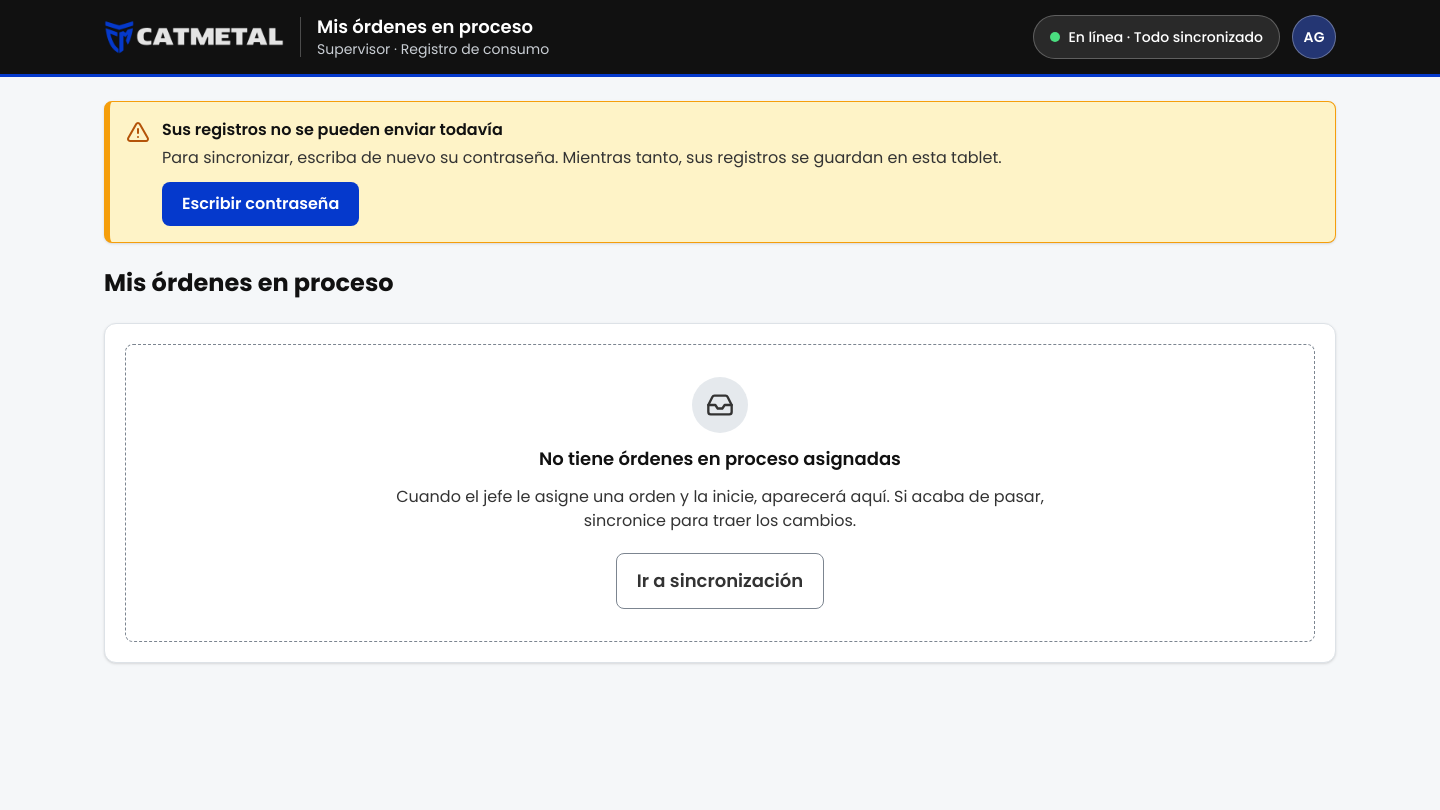
Scenario: avisos permanentes › sesión del servidor perdida: pide la contraseña para sincronizar
The image size is (1440, 810).
Expected: the heading "Mis órdenes en proceso" is shown, [104, 266, 394, 299]
Expected: the text "Sus registros no se pueden enviar todavía" is shown, [161, 117, 503, 141]
Click the button "Escribir contraseña". click: (261, 204)
box: [162, 182, 359, 226]
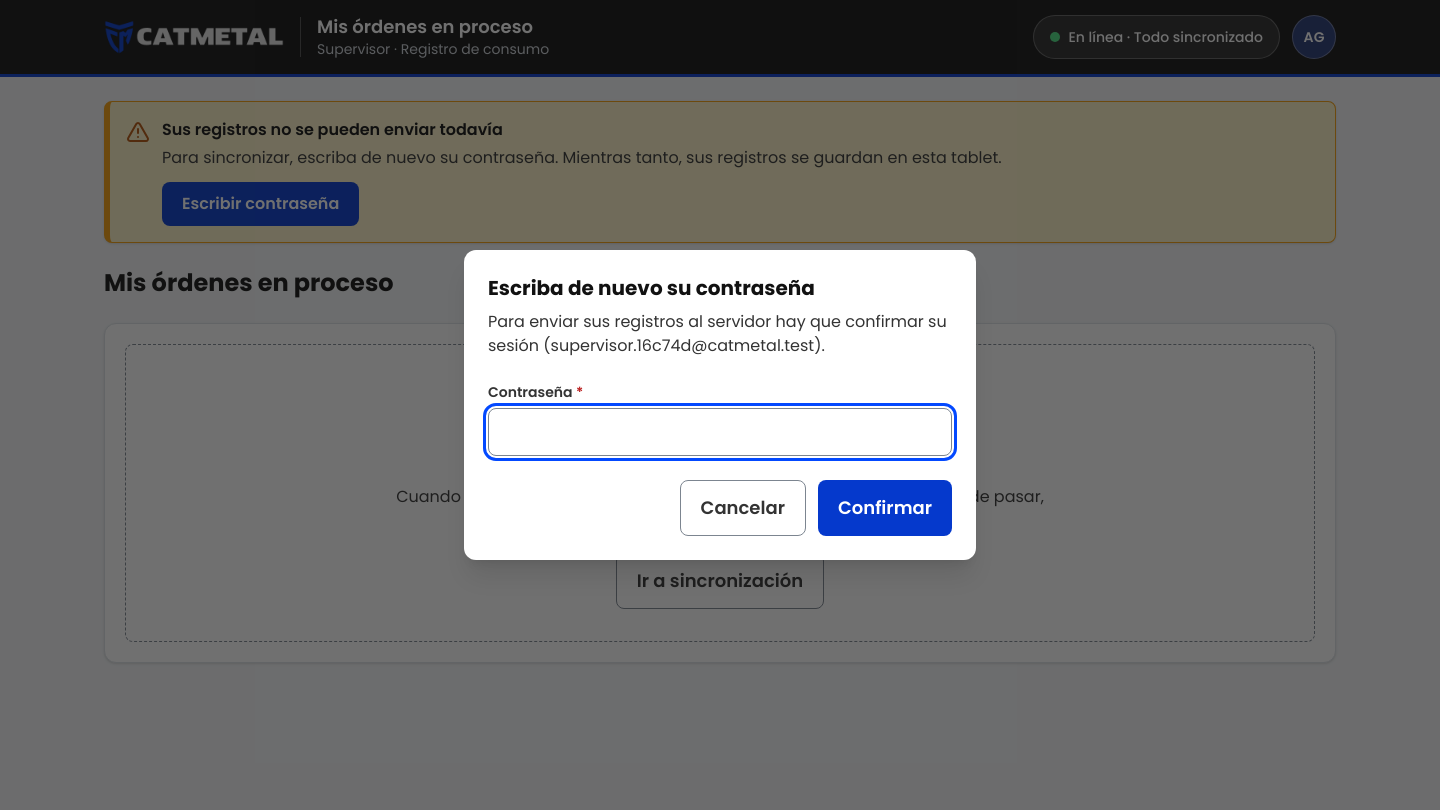
Click the button "Confirmar". click: (885, 508)
box: [818, 480, 952, 536]
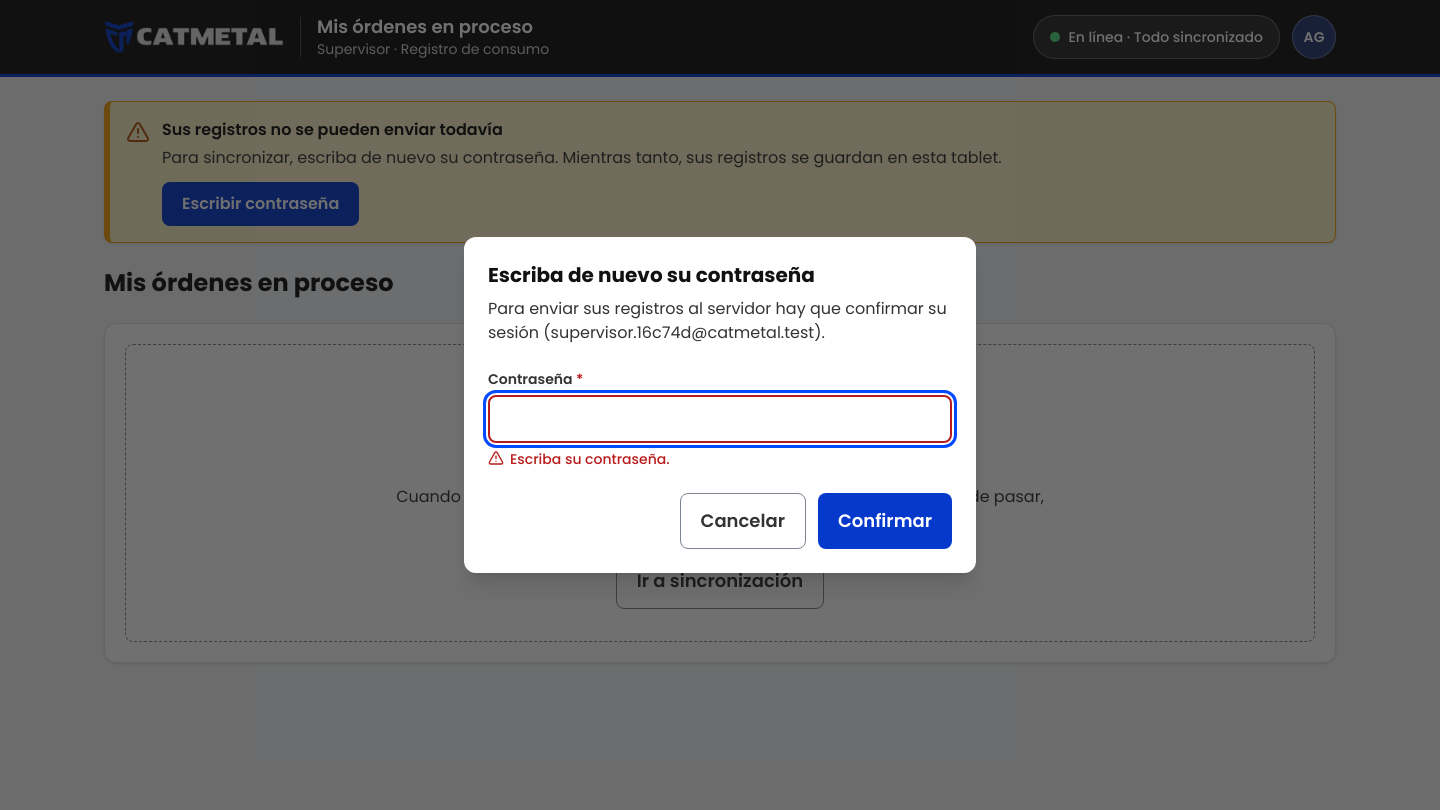
El servidor no responde: entra con el verificador local, pero sin sesión del servidor.
Type "clave-de-prueba" into the password field labelled "Contraseña *". click: (720, 419)
box: [488, 395, 952, 443]
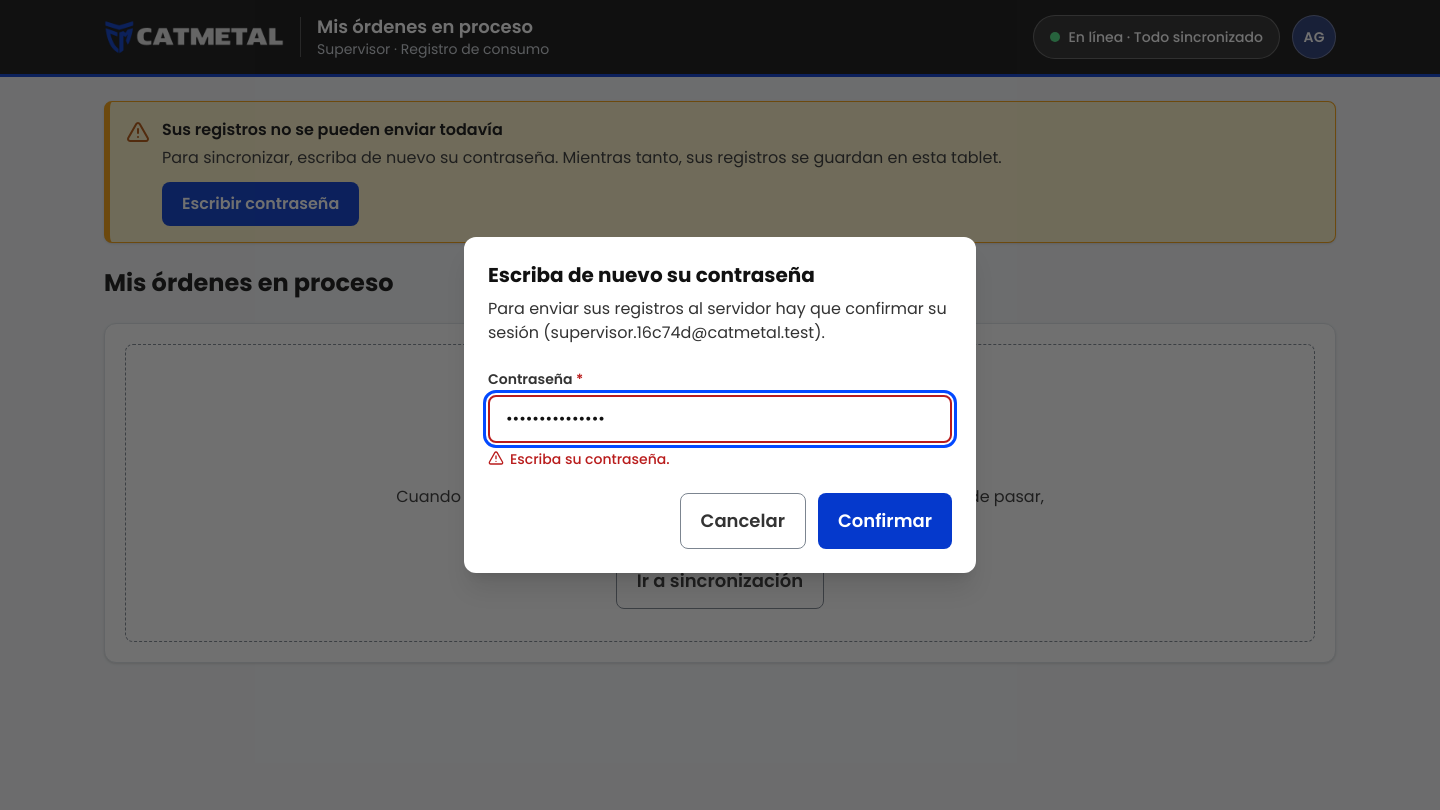
Click the button "Confirmar". click: (885, 521)
box: [818, 493, 952, 549]
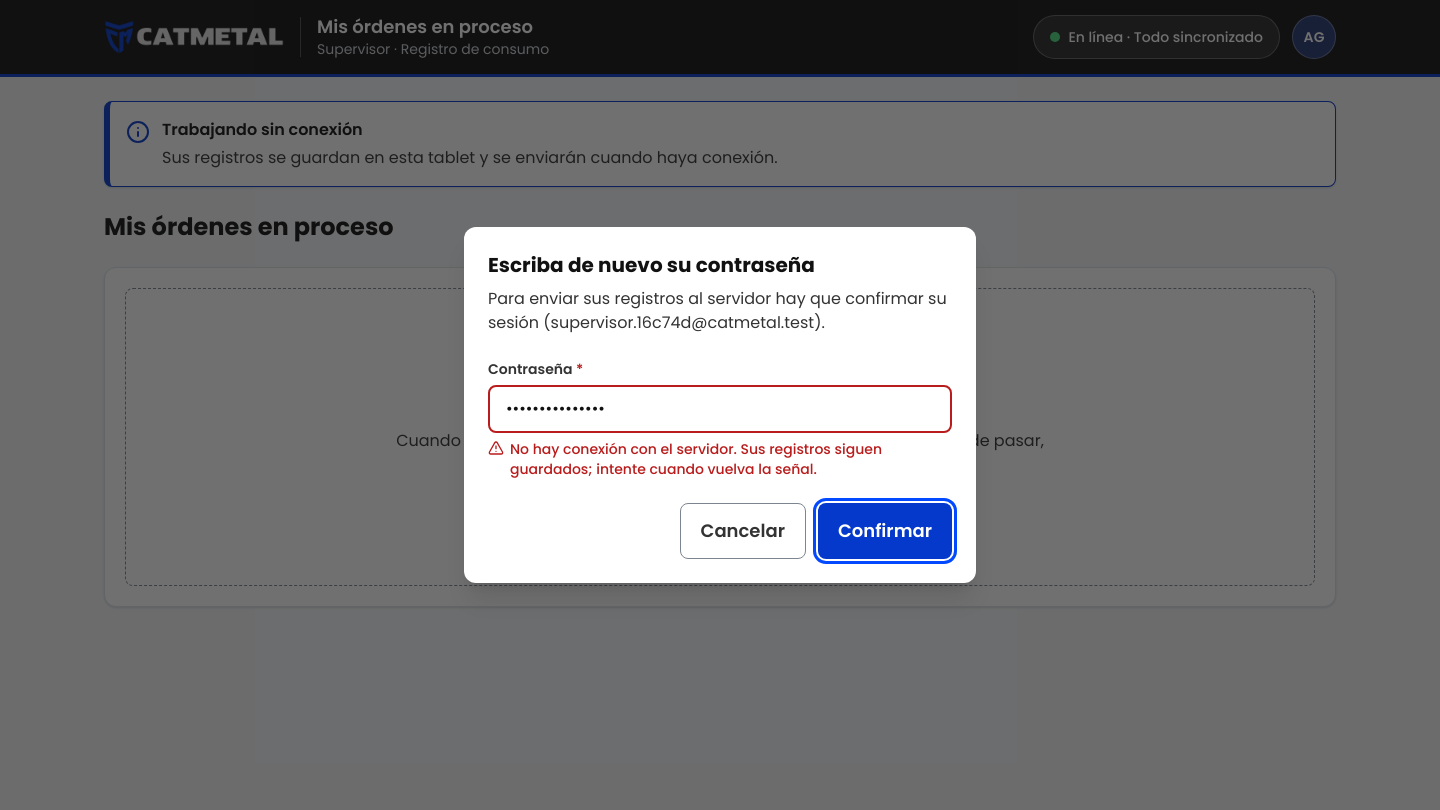
Result: the text "No hay conexión con el servidor" is shown at [510, 439, 882, 479]
